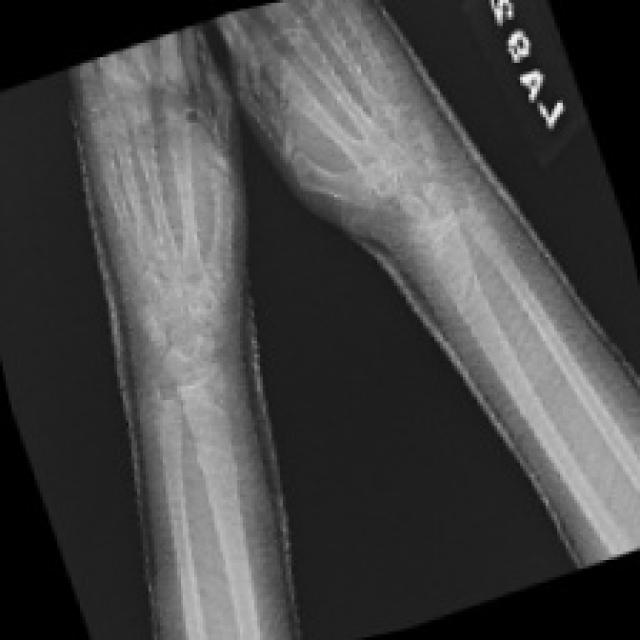fracture: (434, 261, 502, 331)
